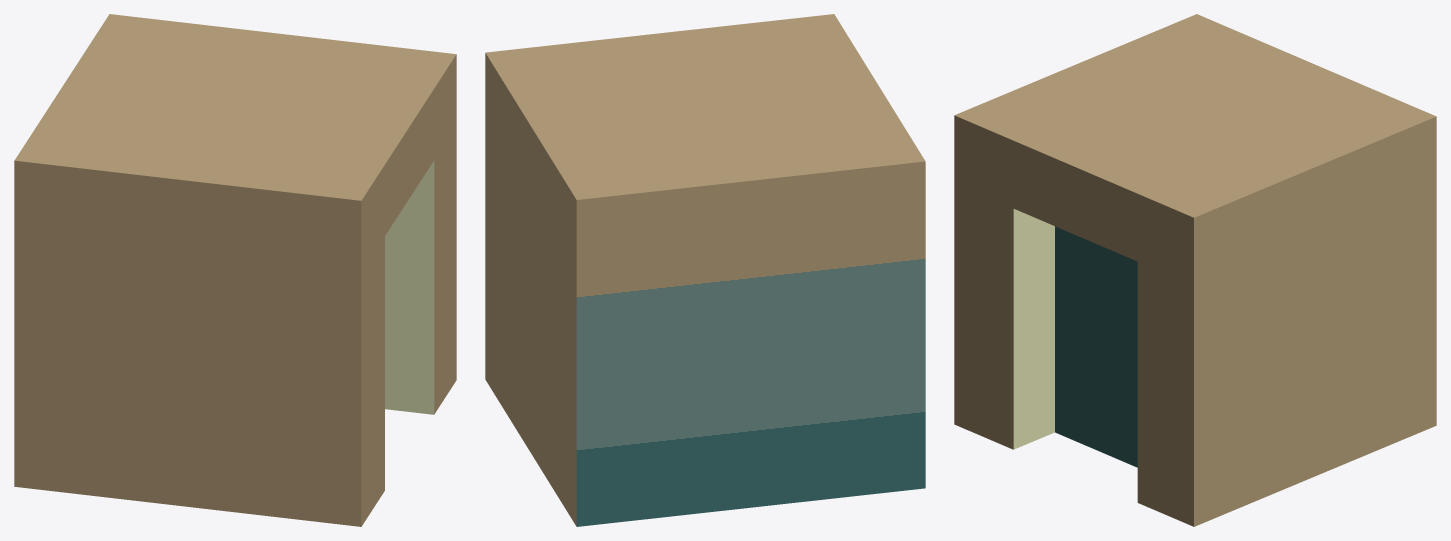
File: PuertaGrande.fbx
3 renders of one model, left to right at view 1: azimuth 30°, elevation 25°; view 2: azimuth 150°, elevation 25°; view 3: azimuth 270°, elevation 25°, orthographic. The views are drawn at different scales.
Parts seen in each view (by area): view 1: Cube.045; view 2: Cube.045; view 3: Cube.045.
Boxes of the visible parts, x1,y1,x2,y2 form: Cube.045: [14, 14, 456, 526]; Cube.045: [485, 14, 925, 526]; Cube.045: [954, 14, 1436, 526].
Bounding box in the file's own units: 212 × 150 × 212.
